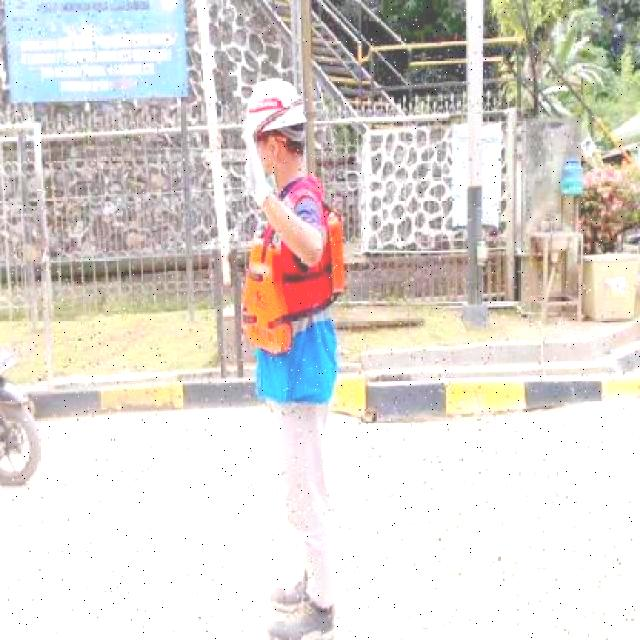Boots: (267, 594, 341, 638), (266, 573, 316, 615)
Gloves: (240, 118, 272, 206)
Helmet: (235, 74, 312, 134)
Mask: (238, 193, 350, 353)
